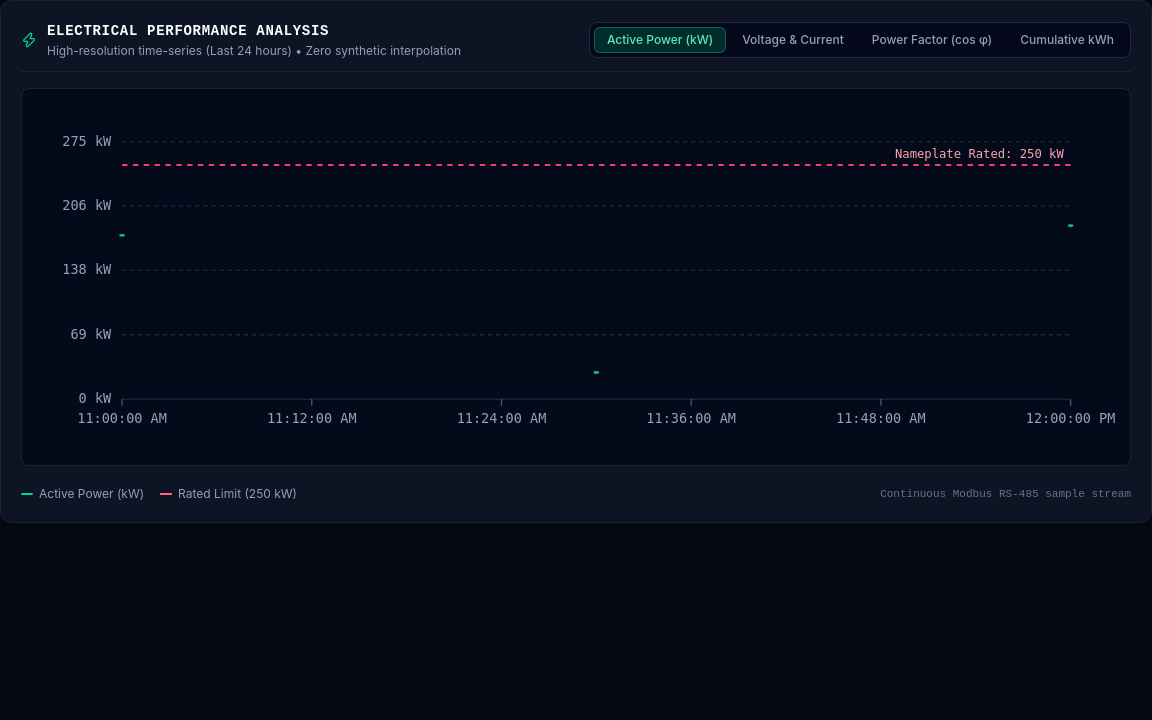
it: Stage 9C: Machine Detail & Live Telemetry Experience › ElectricalPerformanceCharts › renders time-series SVG tabs and navigates between power, VI, and PF
Later steps or results of the test are not shown.
expect the heading "Electrical Performance Analysis" is shown: met, box [47,23,329,39]
expect the text "Nameplate Rated: 250 kW" is shown: met, box [895,147,1064,161]
// Click Voltage & Current tab
Click the button "Voltage & Current". click: (793, 40)
box: [730,28,856,52]
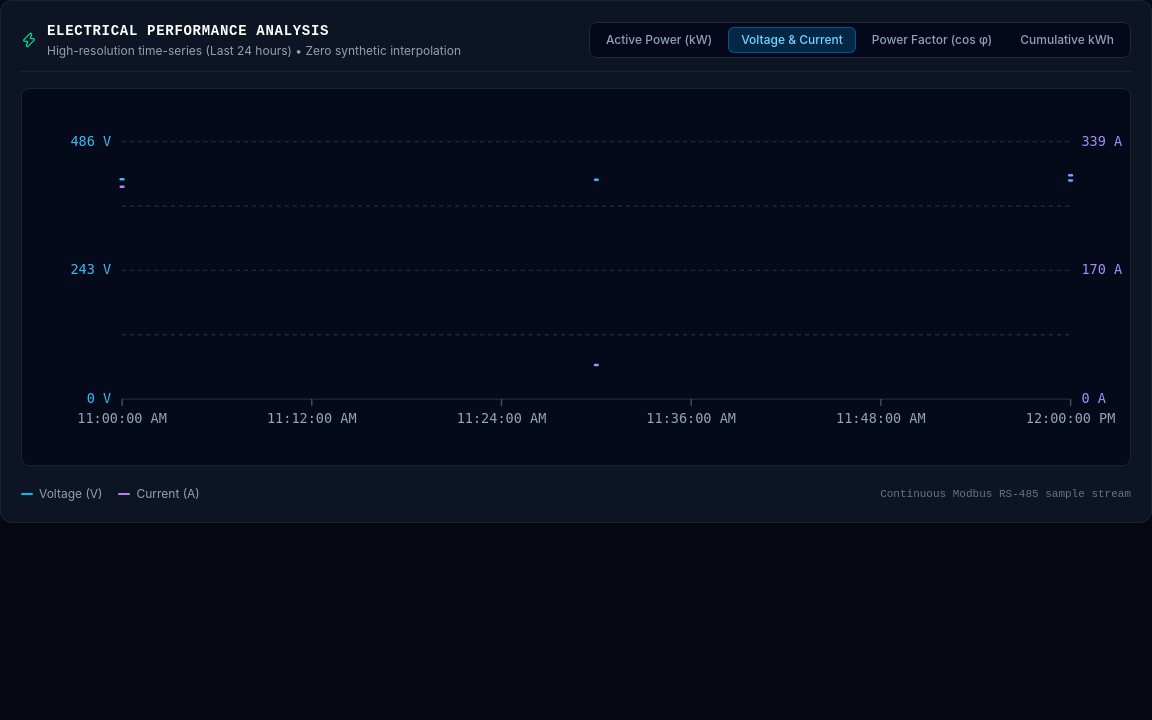
expect the text "Voltage (V)" is shown: met, box [39,486,102,502]
expect the text "Current (A)" is shown: met, box [136,486,200,502]
